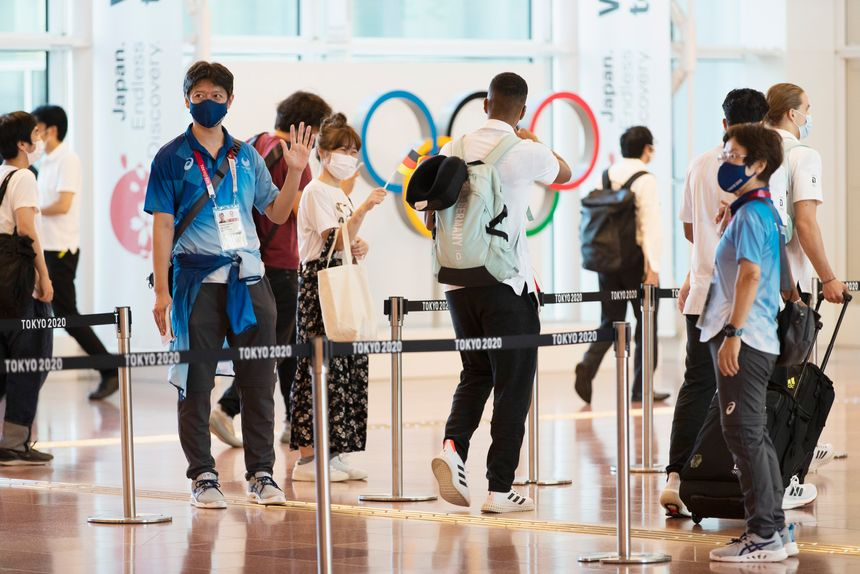with_mask: (716, 139, 749, 190), (189, 85, 225, 125), (332, 147, 362, 181)
